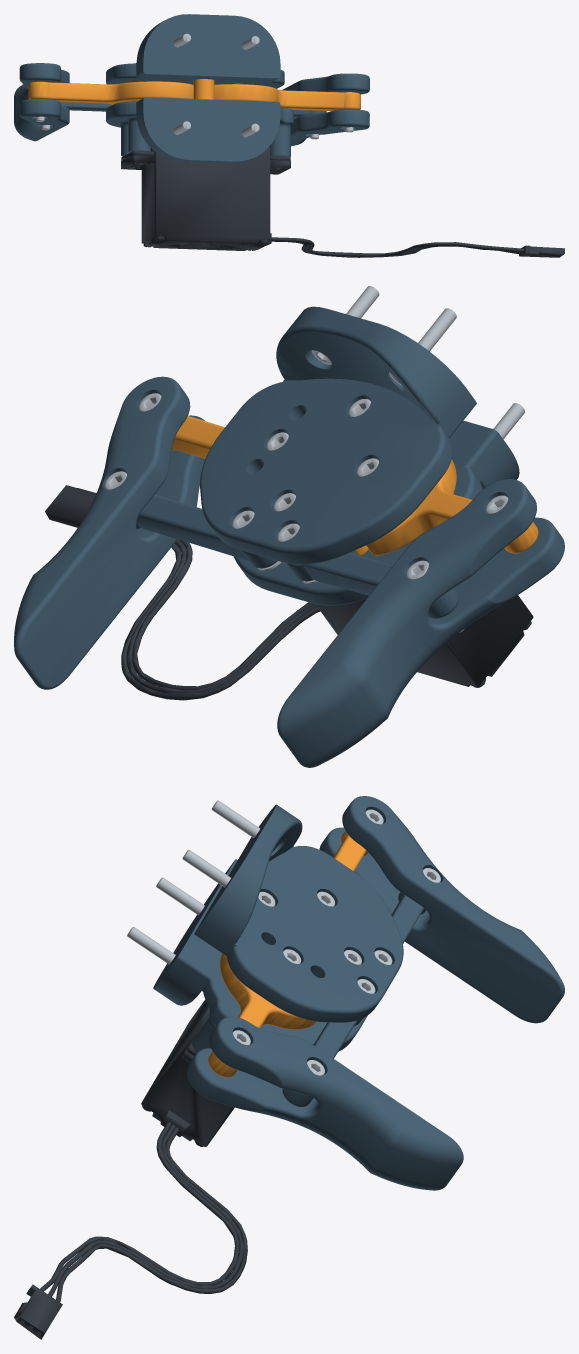
File: gripper_LOD0.fbx
The picture shows the model from 3 angles, top to bottom: view 1: azimuth 30°, elevation 25°; view 2: azimuth 150°, elevation 25°; view 3: azimuth 270°, elevation 25°; orthographic projection. The views are drawn at different scales.
Parts seen in each view (by area): view 1: MM_moveo_servo_futaba_s3003_ca1c8814b5, MM_moveo_bottom_plate_c_4851a3331d, MM_moveo_top_plate_c_4c902ccc3b, MM_moveo_gripper_right_b_221edfd3cb, MM_moveo_idol_gear_b_b445b8329f, MM_moveo_gripper_left_b_bc190cbb1d, MM_moveo_servo_gear_b_4135fb36dd, MM_moveo_cilinder_b9d114e28d, MM_moveo_pivot_arm_b_1e5d9d2fdc; view 2: MM_moveo_top_plate_c_4c902ccc3b, MM_moveo_gripper_left_b_bc190cbb1d, MM_moveo_gripper_right_b_221edfd3cb, MM_moveo_servo_futaba_s3003_ca1c8814b5, MM_moveo_bottom_plate_c_4851a3331d, MM_moveo_idol_gear_b_b445b8329f, MM_moveo_pivot_arm_b_21d8a86559, MM_moveo_pivot_arm_b_1e5d9d2fdc, MM_moveo_servo_gear_b_4135fb36dd, MM_moveo_m3x16_96104d5a36, MM_moveo_m3x16_d9e4b7c7da; view 3: MM_moveo_top_plate_c_4c902ccc3b, MM_moveo_gripper_right_b_221edfd3cb, MM_moveo_gripper_left_b_bc190cbb1d, MM_moveo_servo_futaba_s3003_ca1c8814b5, MM_moveo_bottom_plate_c_4851a3331d, MM_moveo_servo_gear_b_4135fb36dd, MM_moveo_pivot_arm_b_21d8a86559, MM_moveo_pivot_arm_b_1e5d9d2fdc, MM_moveo_idol_gear_b_b445b8329f.
Part boxes in pixels (box(x1,y1,x2,y2)): MM_moveo_servo_futaba_s3003_ca1c8814b5: box(121, 147, 564, 257); MM_moveo_bottom_plate_c_4851a3331d: box(106, 97, 293, 163); MM_moveo_top_plate_c_4c902ccc3b: box(106, 14, 284, 88); MM_moveo_gripper_right_b_221edfd3cb: box(282, 73, 369, 146); MM_moveo_idol_gear_b_b445b8329f: box(28, 81, 193, 104); MM_moveo_gripper_left_b_bc190cbb1d: box(14, 63, 69, 141); MM_moveo_servo_gear_b_4135fb36dd: box(214, 84, 360, 110); MM_moveo_cilinder_b9d114e28d: box(193, 79, 214, 99); MM_moveo_pivot_arm_b_1e5d9d2fdc: box(60, 102, 111, 111); MM_moveo_top_plate_c_4c902ccc3b: box(200, 306, 476, 564); MM_moveo_gripper_left_b_bc190cbb1d: box(277, 479, 564, 767); MM_moveo_gripper_right_b_221edfd3cb: box(14, 376, 205, 689); MM_moveo_servo_futaba_s3003_ca1c8814b5: box(45, 485, 533, 700); MM_moveo_bottom_plate_c_4851a3331d: box(233, 420, 519, 605); MM_moveo_idol_gear_b_b445b8329f: box(350, 459, 538, 555); MM_moveo_pivot_arm_b_21d8a86559: box(136, 494, 277, 568); MM_moveo_pivot_arm_b_1e5d9d2fdc: box(287, 552, 458, 618); MM_moveo_servo_gear_b_4135fb36dd: box(171, 416, 224, 458); MM_moveo_m3x16_96104d5a36: box(389, 308, 456, 385); MM_moveo_m3x16_d9e4b7c7da: box(311, 286, 379, 364); MM_moveo_top_plate_c_4c902ccc3b: box(194, 804, 403, 1022); MM_moveo_gripper_right_b_221edfd3cb: box(186, 1016, 463, 1190); MM_moveo_gripper_left_b_bc190cbb1d: box(319, 796, 564, 1023); MM_moveo_servo_futaba_s3003_ca1c8814b5: box(14, 999, 247, 1339); MM_moveo_bottom_plate_c_4851a3331d: box(153, 859, 367, 1052); MM_moveo_servo_gear_b_4135fb36dd: box(208, 953, 315, 1077); MM_moveo_pivot_arm_b_21d8a86559: box(282, 1018, 362, 1106); MM_moveo_pivot_arm_b_1e5d9d2fdc: box(391, 892, 426, 943); MM_moveo_idol_gear_b_b445b8329f: box(333, 831, 368, 871).
Size of the model in its own units: 0.1666 by 0.1019 by 0.1391.
